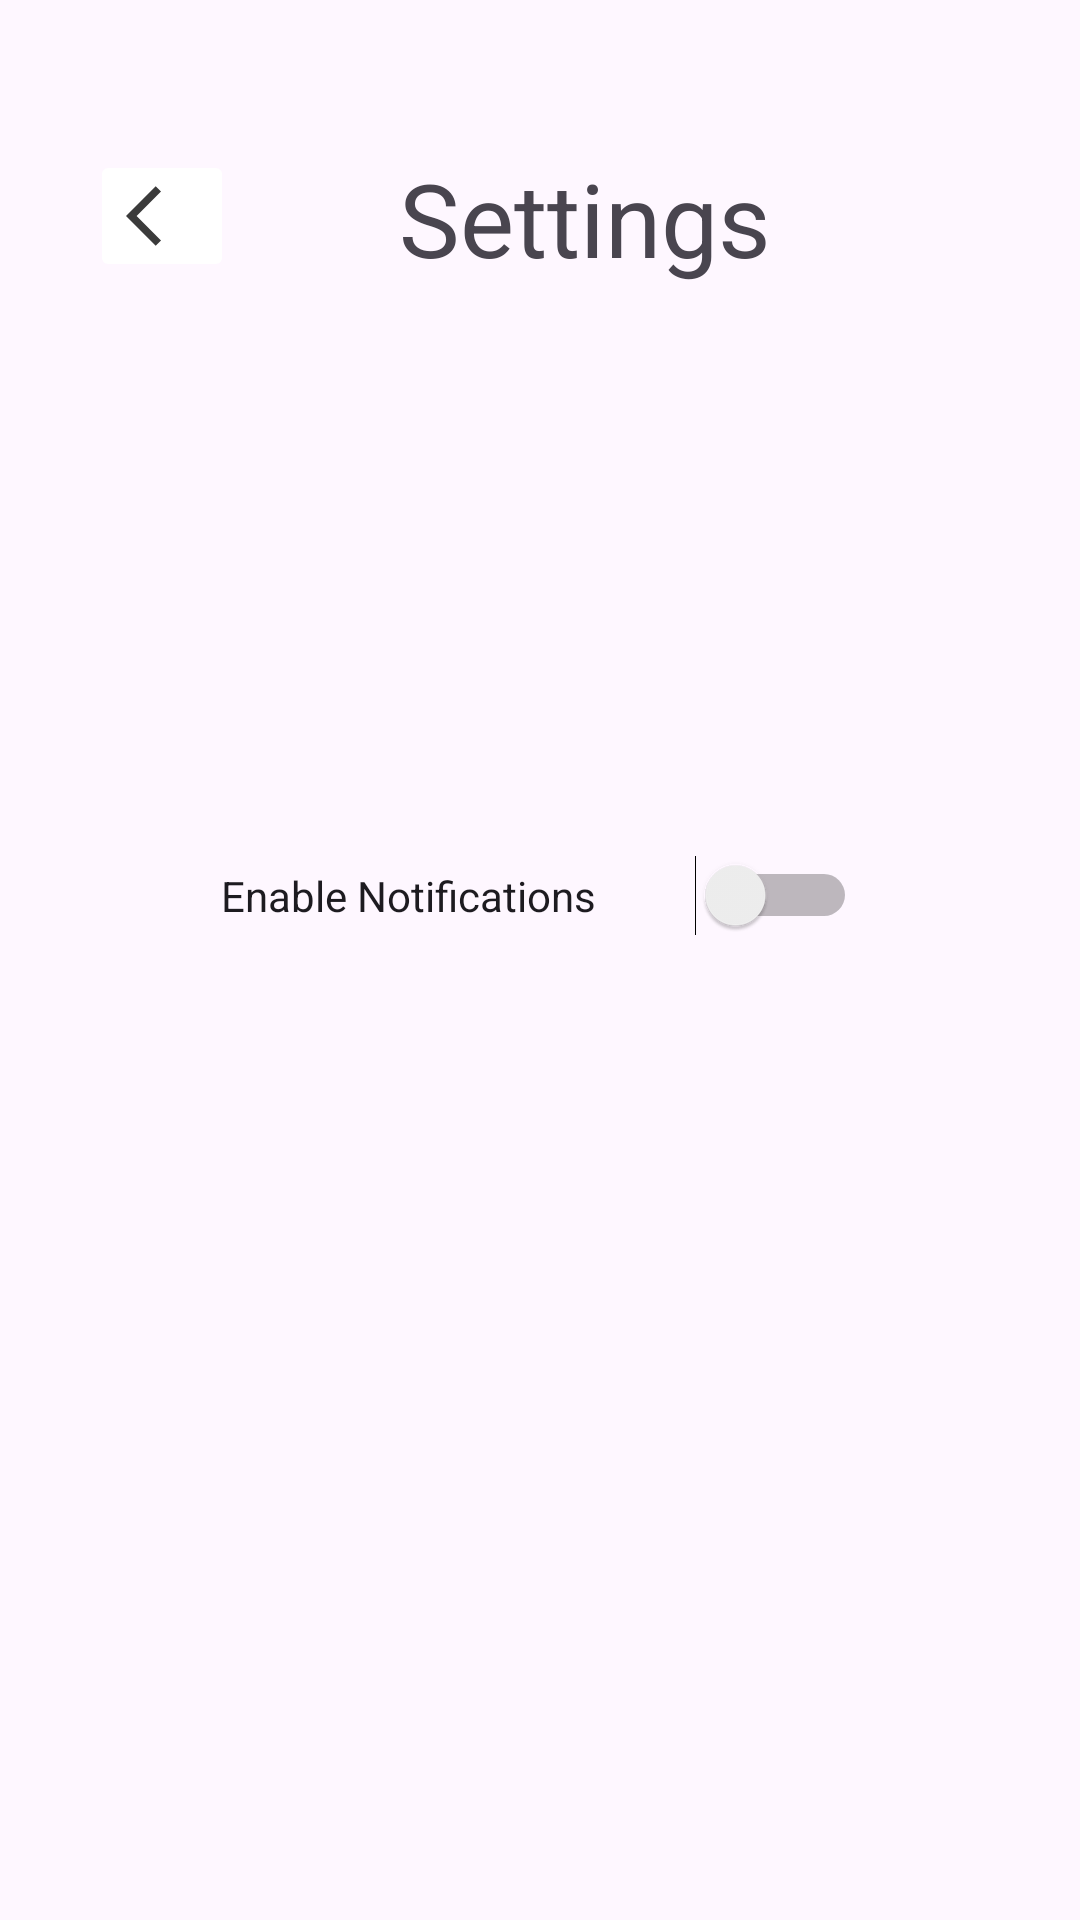

Icons on this 1080px x 1920px Android screen, each with its box as {"left": x1, "top": y1, "right": x2, "bottom": y2}:
arrow back: {"left": 126, "top": 186, "right": 161, "bottom": 246}
